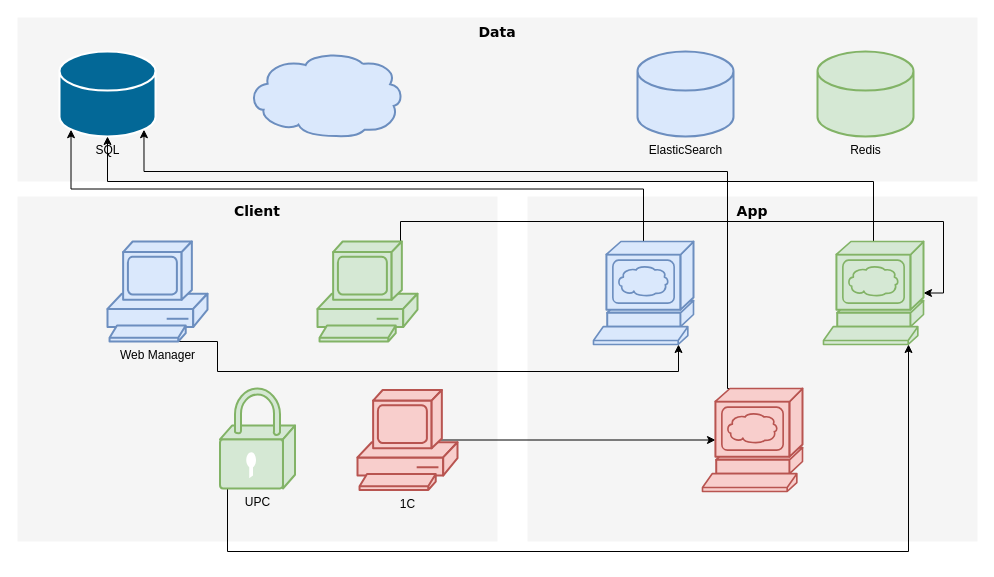
Image size: 994x577. Some labels were removed from this diagram. The centre of each missing label's shape, as x and y in pixels:
"1C API" belongs at (752,439).
"CMS" belongs at (643,292).
"S3" belongs at (325,93).
"Web Site" belongs at (873,292).
"Web User" belongs at (367,291).
